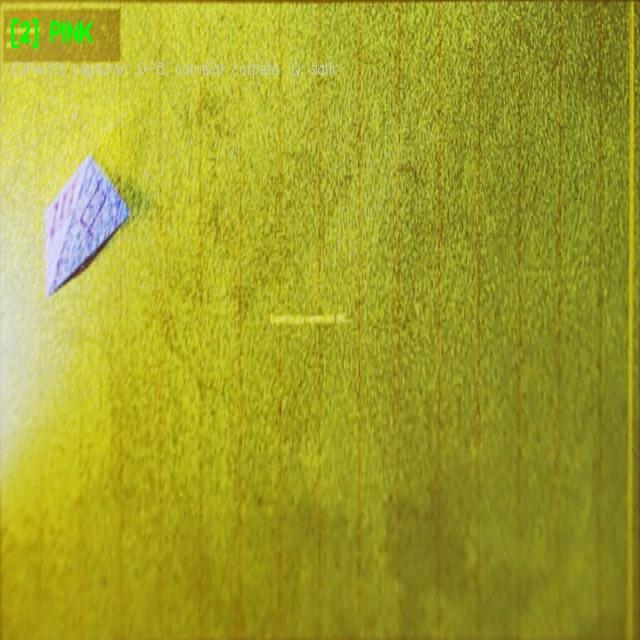pink: (45, 156, 128, 295)
